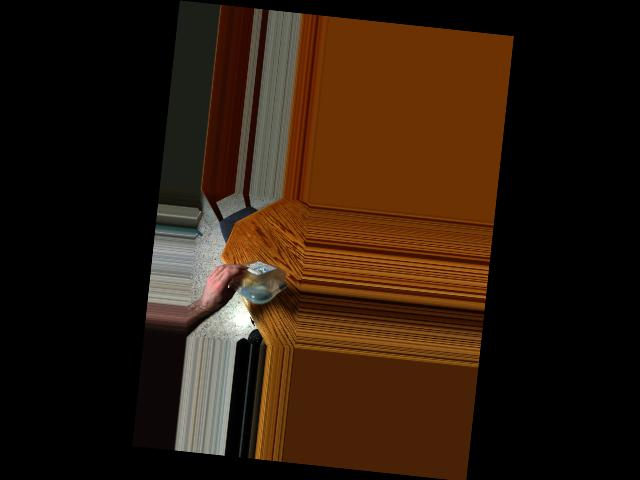cheese: (218, 258, 285, 301)
